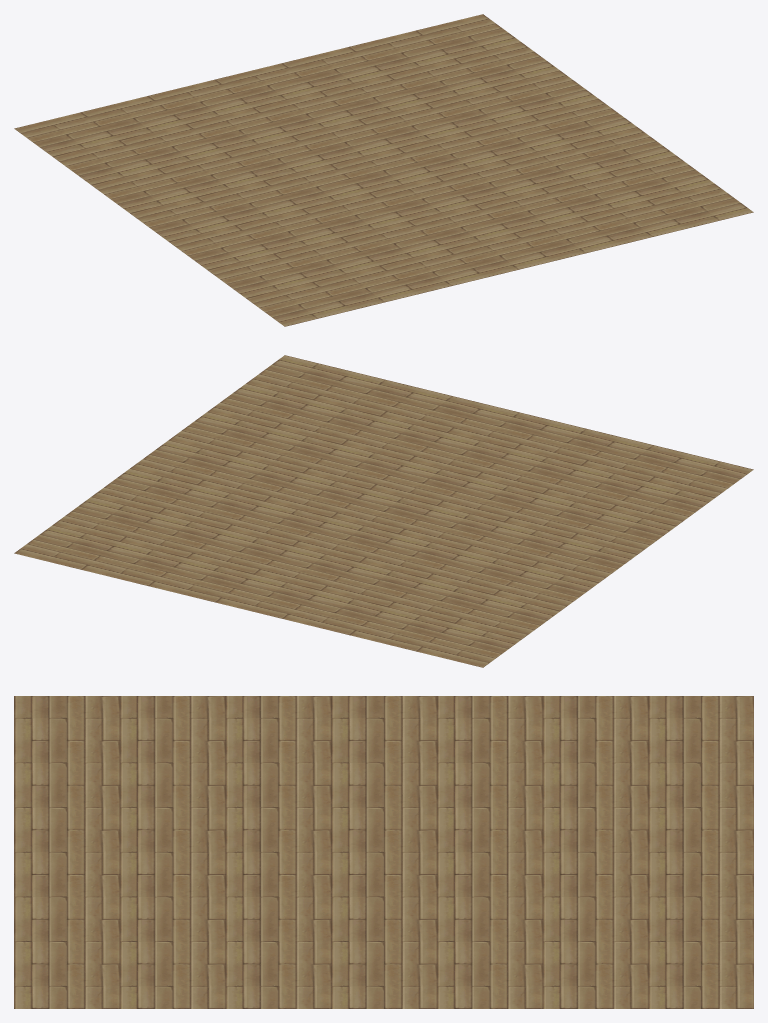
The model's file is K1_floor4.FBX.
3 renders of one model, top to bottom at view 1: azimuth 30°, elevation 25°; view 2: azimuth 150°, elevation 25°; view 3: azimuth 270°, elevation 25°, orthographic. The views are drawn at different scales.
Visible parts, largest first — view 1: floor4; view 2: floor4; view 3: floor4.
Part boxes in pixels (<box>): floor4: <box>14,14,753,326</box>; floor4: <box>14,355,753,667</box>; floor4: <box>14,696,753,1008</box>.
Size of the model in its own units: 8.23 by 5.04e-16 by 8.23.
